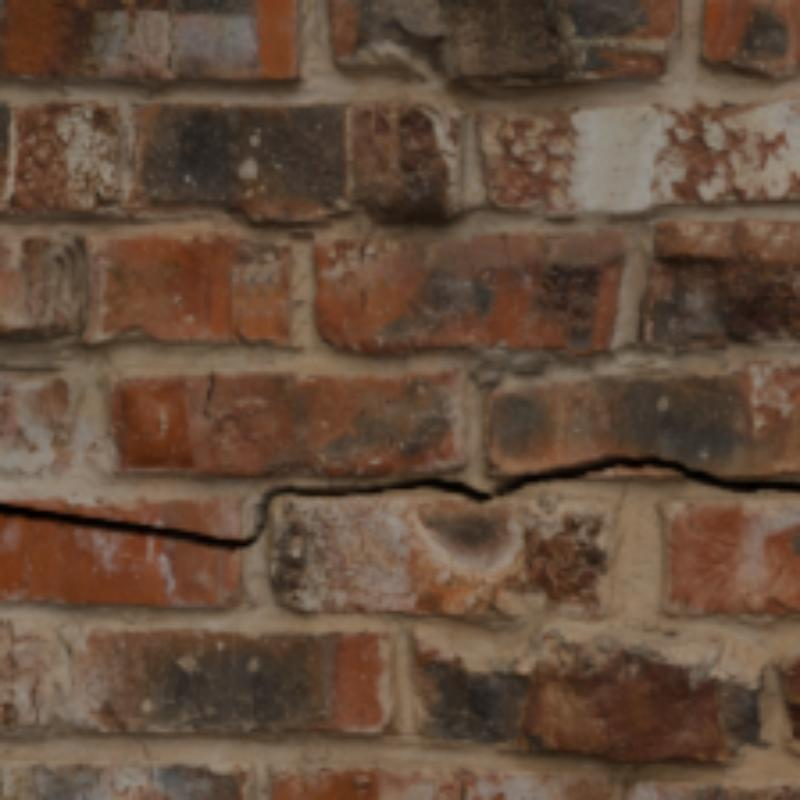pothole: (0, 454, 796, 546)
